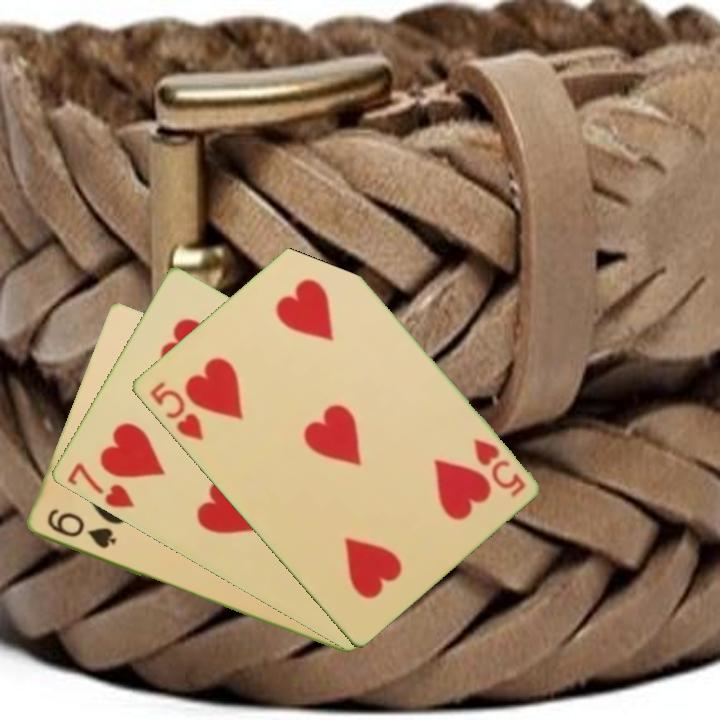5h: (145, 378, 206, 444), (469, 435, 528, 500)
6s: (43, 505, 119, 552)
7h: (62, 459, 137, 511)
